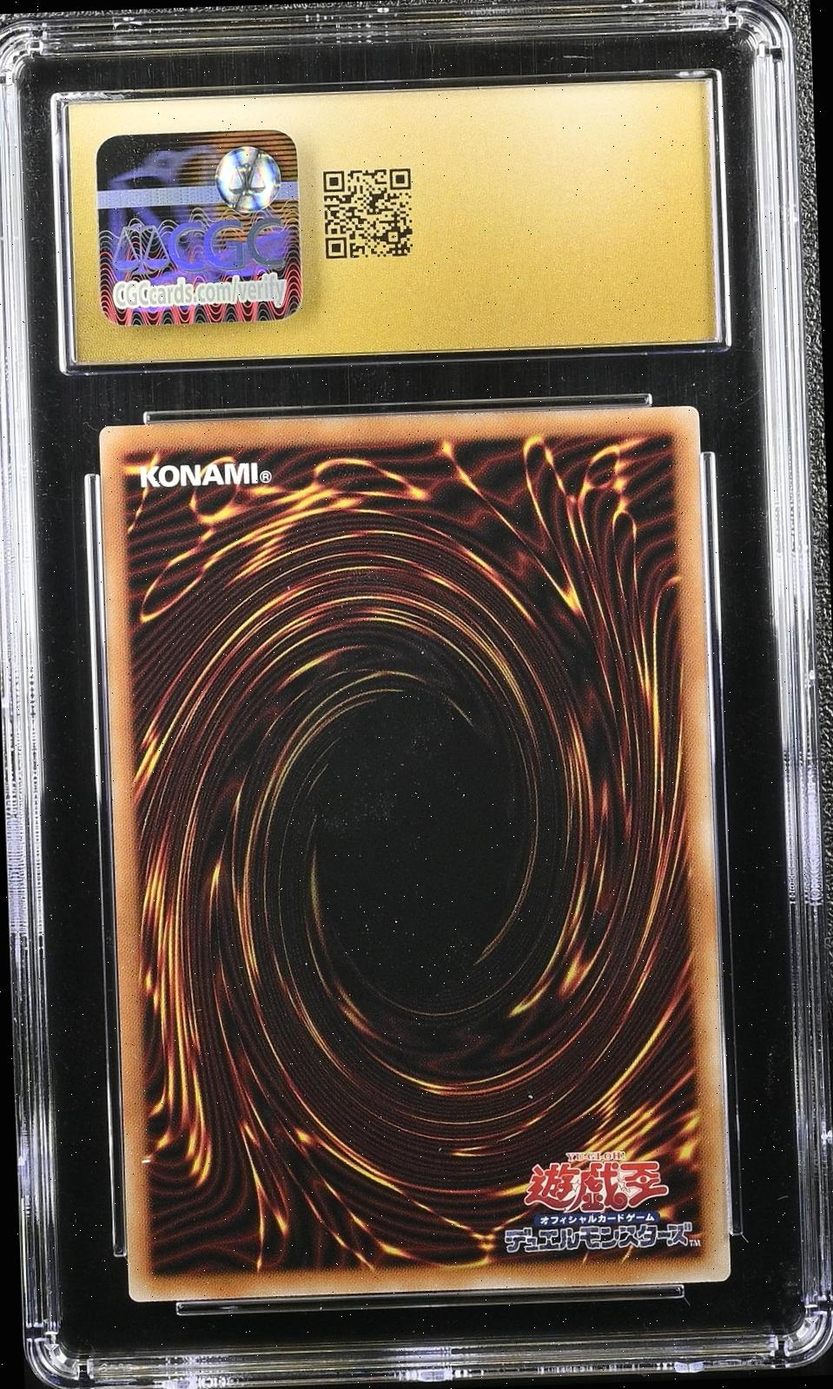card-2UtV: (98, 404, 730, 1303)
